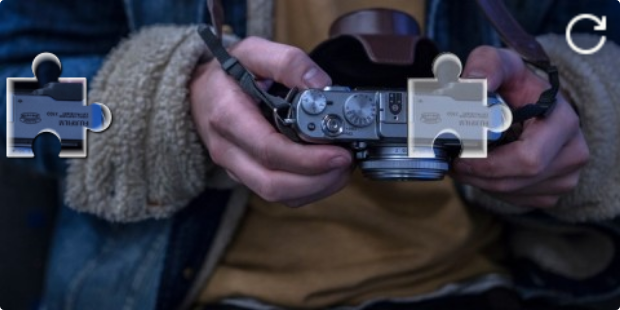target: (407, 52, 513, 158)
